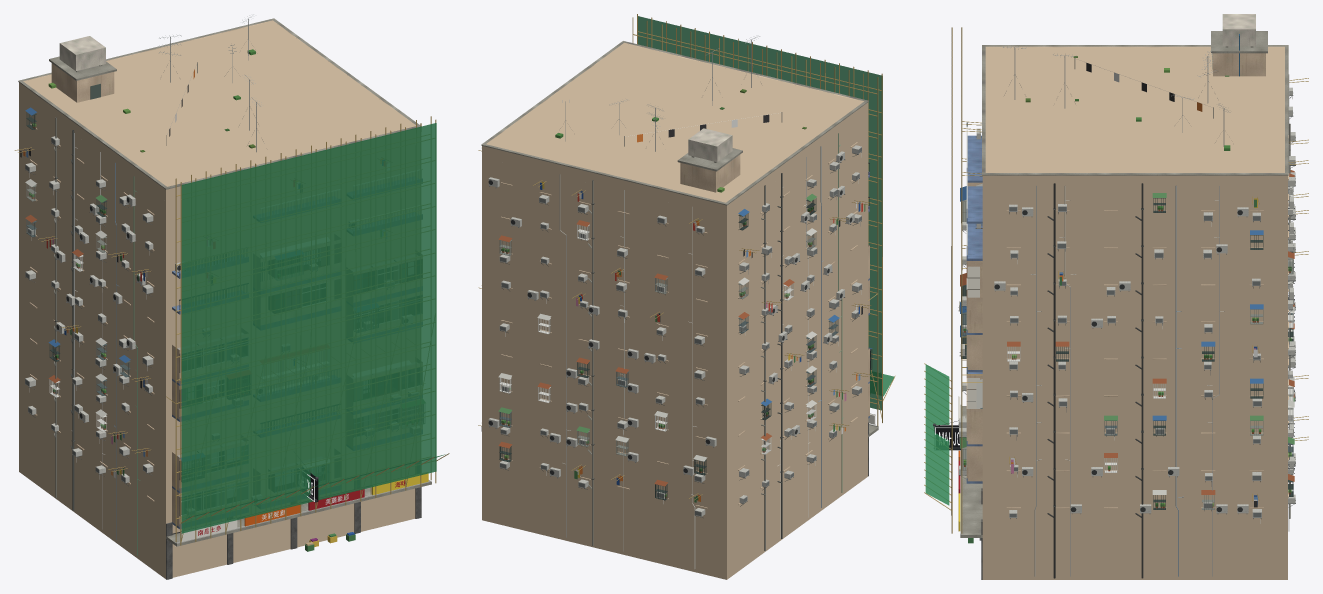
File: balcony-tenement.glb
3 views of the same model, side by side, from view 1: azimuth 30°, elevation 25°; view 2: azimuth 150°, elevation 25°; view 3: azimuth 270°, elevation 25° (orthographic). The views are drawn at different scales.
Visible parts, largest first — view 1: LOD_vc, Scaffold_net, Building_vc, Building_metal, Building_slab, Building_ac, Building_wall, Scaffold_bamboo, Building_board, Building_granite, Building_tank; view 2: LOD_vc, Scaffold_net, Building_vc, Building_metal, Building_ac, Scaffold_bamboo, Building_wall, Building_slab, Building_tank, Building_bamboo; view 3: LOD_vc, Building_vc, Building_metal, Building_wall, Building_ac, Building_slab, Scaffold_net, Scaffold_bamboo, Building_blue, Building_tank, Building_room, Building_board (+1 smaller).
Part boxes in pixels (<box>): LOD_vc: <box>19,21,415,578</box>; Scaffold_net: <box>181,123,445,533</box>; Building_vc: <box>20,49,355,555</box>; Building_metal: <box>25,14,431,543</box>; Building_slab: <box>18,18,431,546</box>; Building_ac: <box>25,136,180,482</box>; Building_wall: <box>23,20,415,526</box>; Scaffold_bamboo: <box>166,116,449,545</box>; Building_board: <box>181,473,428,541</box>; Building_granite: <box>166,487,421,579</box>; Building_tank: <box>59,36,105,70</box>; LOD_vc: <box>482,43,868,579</box>; Scaffold_net: <box>638,16,894,410</box>; Building_vc: <box>481,89,872,568</box>; Building_metal: <box>488,35,878,517</box>; Building_ac: <box>488,145,862,516</box>; Scaffold_bamboo: <box>632,14,895,426</box>; Building_wall: <box>486,42,869,508</box>; Building_slab: <box>481,41,878,436</box>; Building_tank: <box>688,128,732,161</box>; Building_bamboo: <box>478,150,871,500</box>; LOD_vc: <box>982,47,1287,579</box>; Building_vc: <box>959,34,1294,578</box>; Building_metal: <box>933,46,1295,540</box>; Building_wall: <box>966,46,1288,508</box>; Building_ac: <box>959,87,1295,517</box>; Building_slab: <box>960,31,1288,537</box>; Scaffold_net: <box>925,364,949,505</box>; Scaffold_bamboo: <box>924,27,982,533</box>; Building_blue: <box>966,135,982,483</box>; Building_tank: <box>1222,14,1255,46</box>; Building_room: <box>967,266,979,408</box>; Building_board: <box>934,396,960,531</box>.
Size of the model in its own units: 25 by 36.36 by 27.72.
19 materials, 8 textured.
